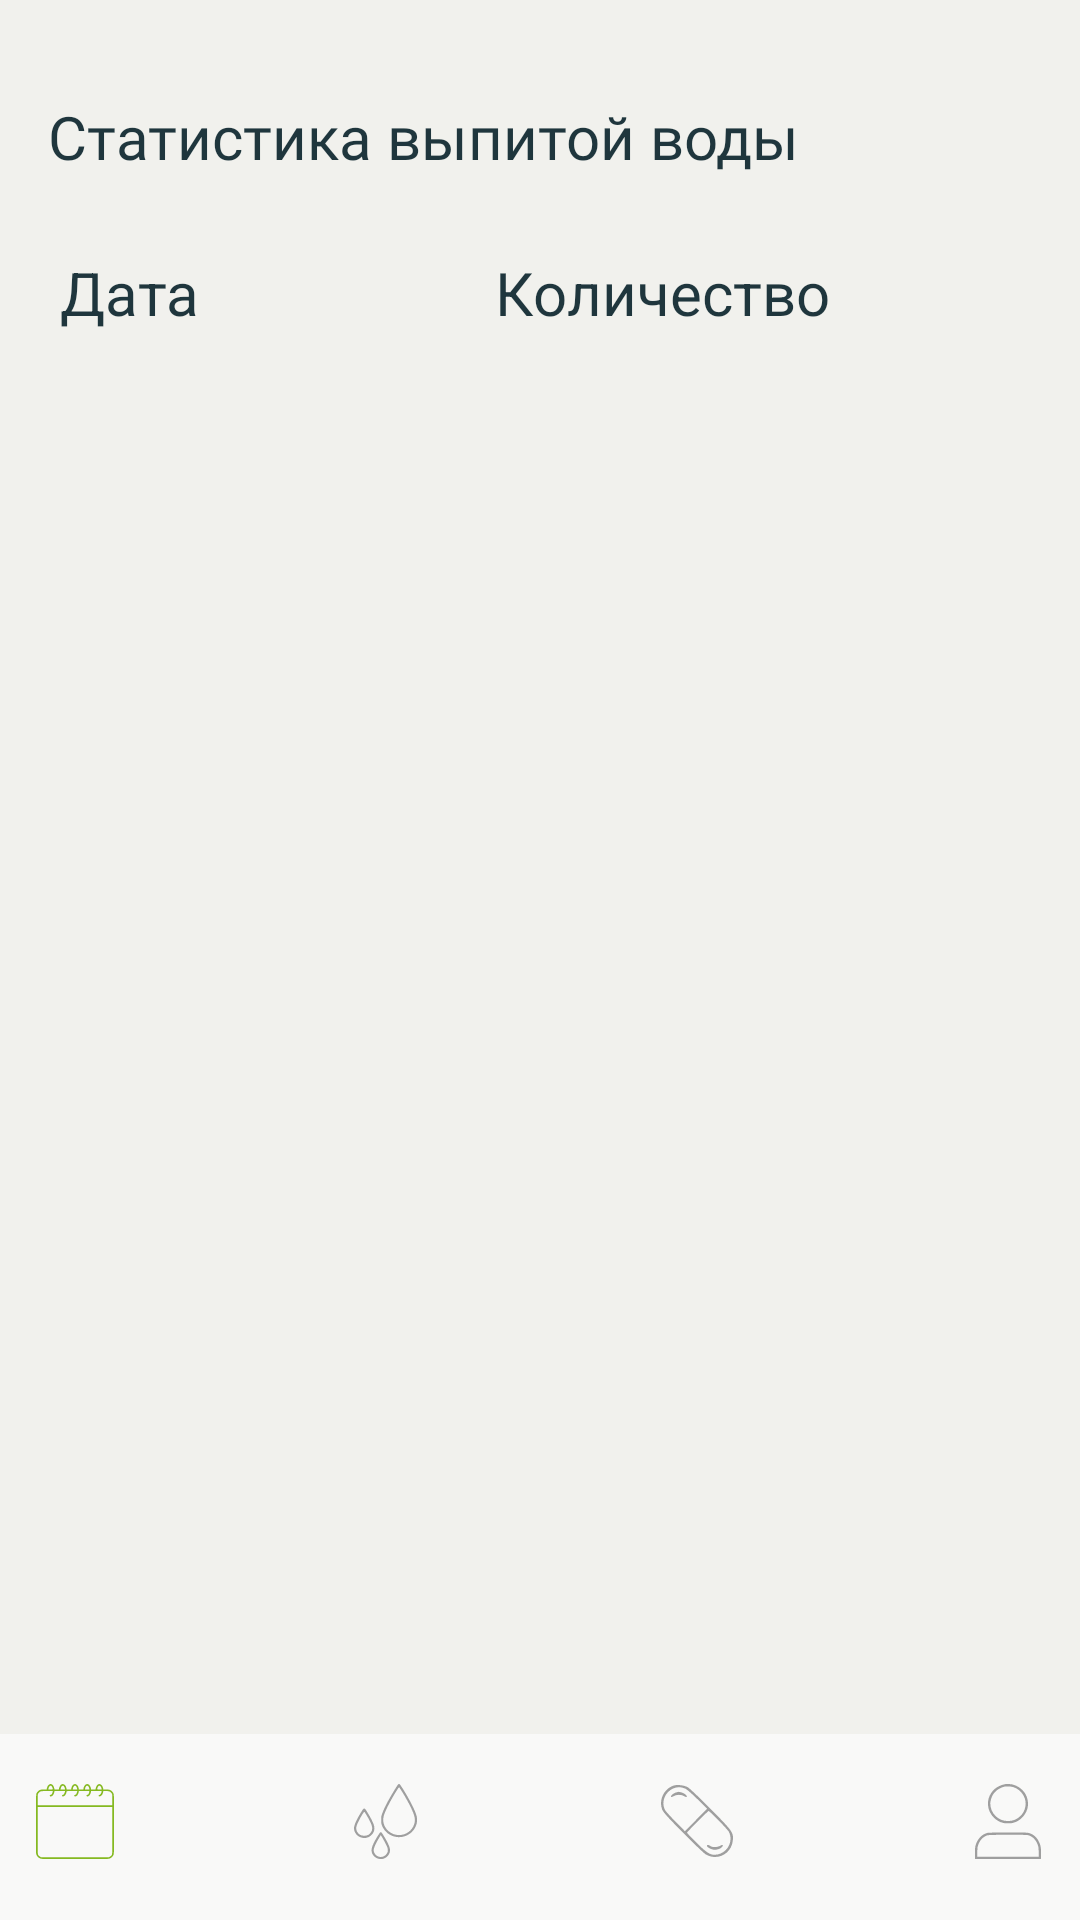

Screen size 1080px x 1920px. Icon name, then its box in pixels as {"left": x1, "top": y1, "right": x2, "bottom": y2}:
lekgray: {"left": 661, "top": 1785, "right": 733, "bottom": 1857}
Водный баланс: {"left": 354, "top": 1784, "right": 417, "bottom": 1859}
